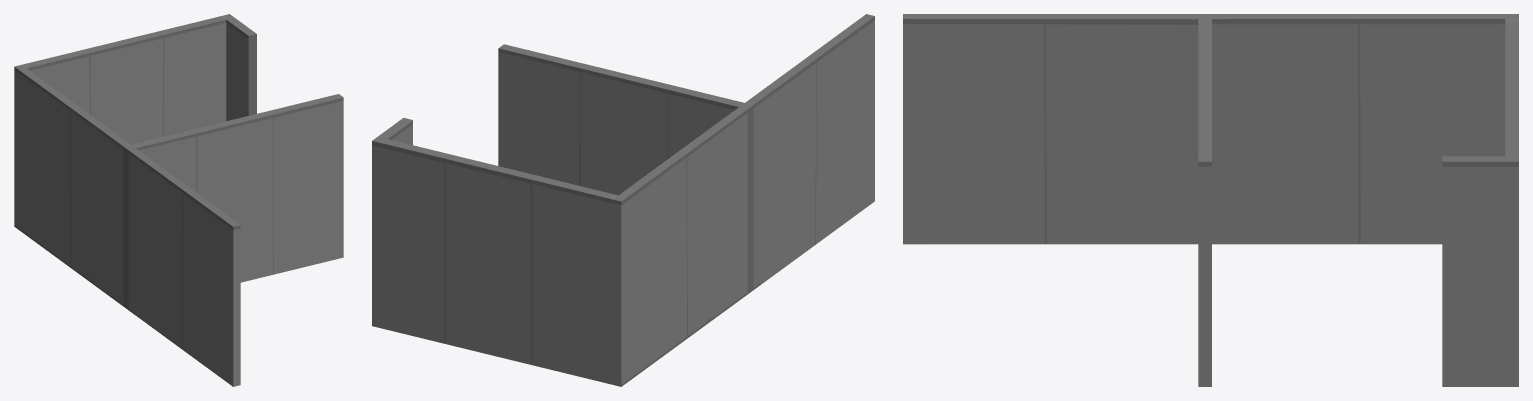
File: Office-Cubicle_R.fbx
The picture shows the model from 3 angles, left to right: view 1: azimuth 30°, elevation 25°; view 2: azimuth 150°, elevation 25°; view 3: azimuth 270°, elevation 25°; orthographic projection. The views are drawn at different scales.
Parts seen in each view (by area): view 1: Cubicle-End-R; view 2: Cubicle-End-R; view 3: Cubicle-End-R.
Boxes of the visible parts, x1,y1,x2,y2 form: Cubicle-End-R: (14, 14, 343, 386); Cubicle-End-R: (372, 14, 874, 386); Cubicle-End-R: (903, 14, 1518, 386).
Bounding box in the file's own units: 253 × 180 × 446.
